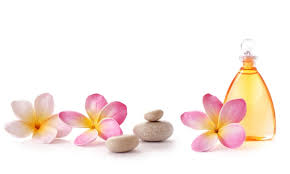frangipani: (181, 93, 248, 154)
